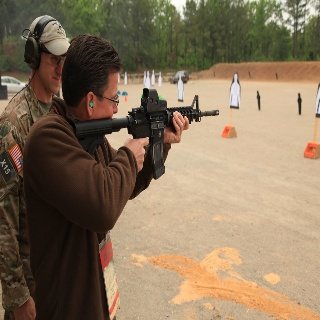rifle: (71, 86, 220, 182)
